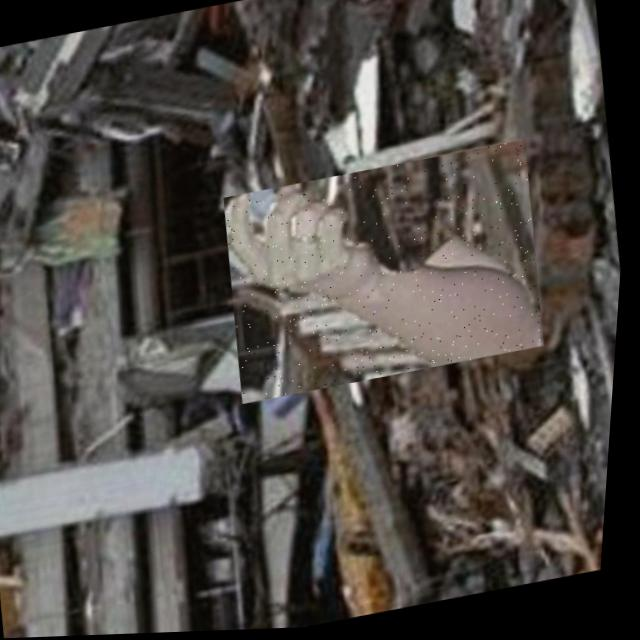Person in Rubble: (215, 141, 560, 406)
